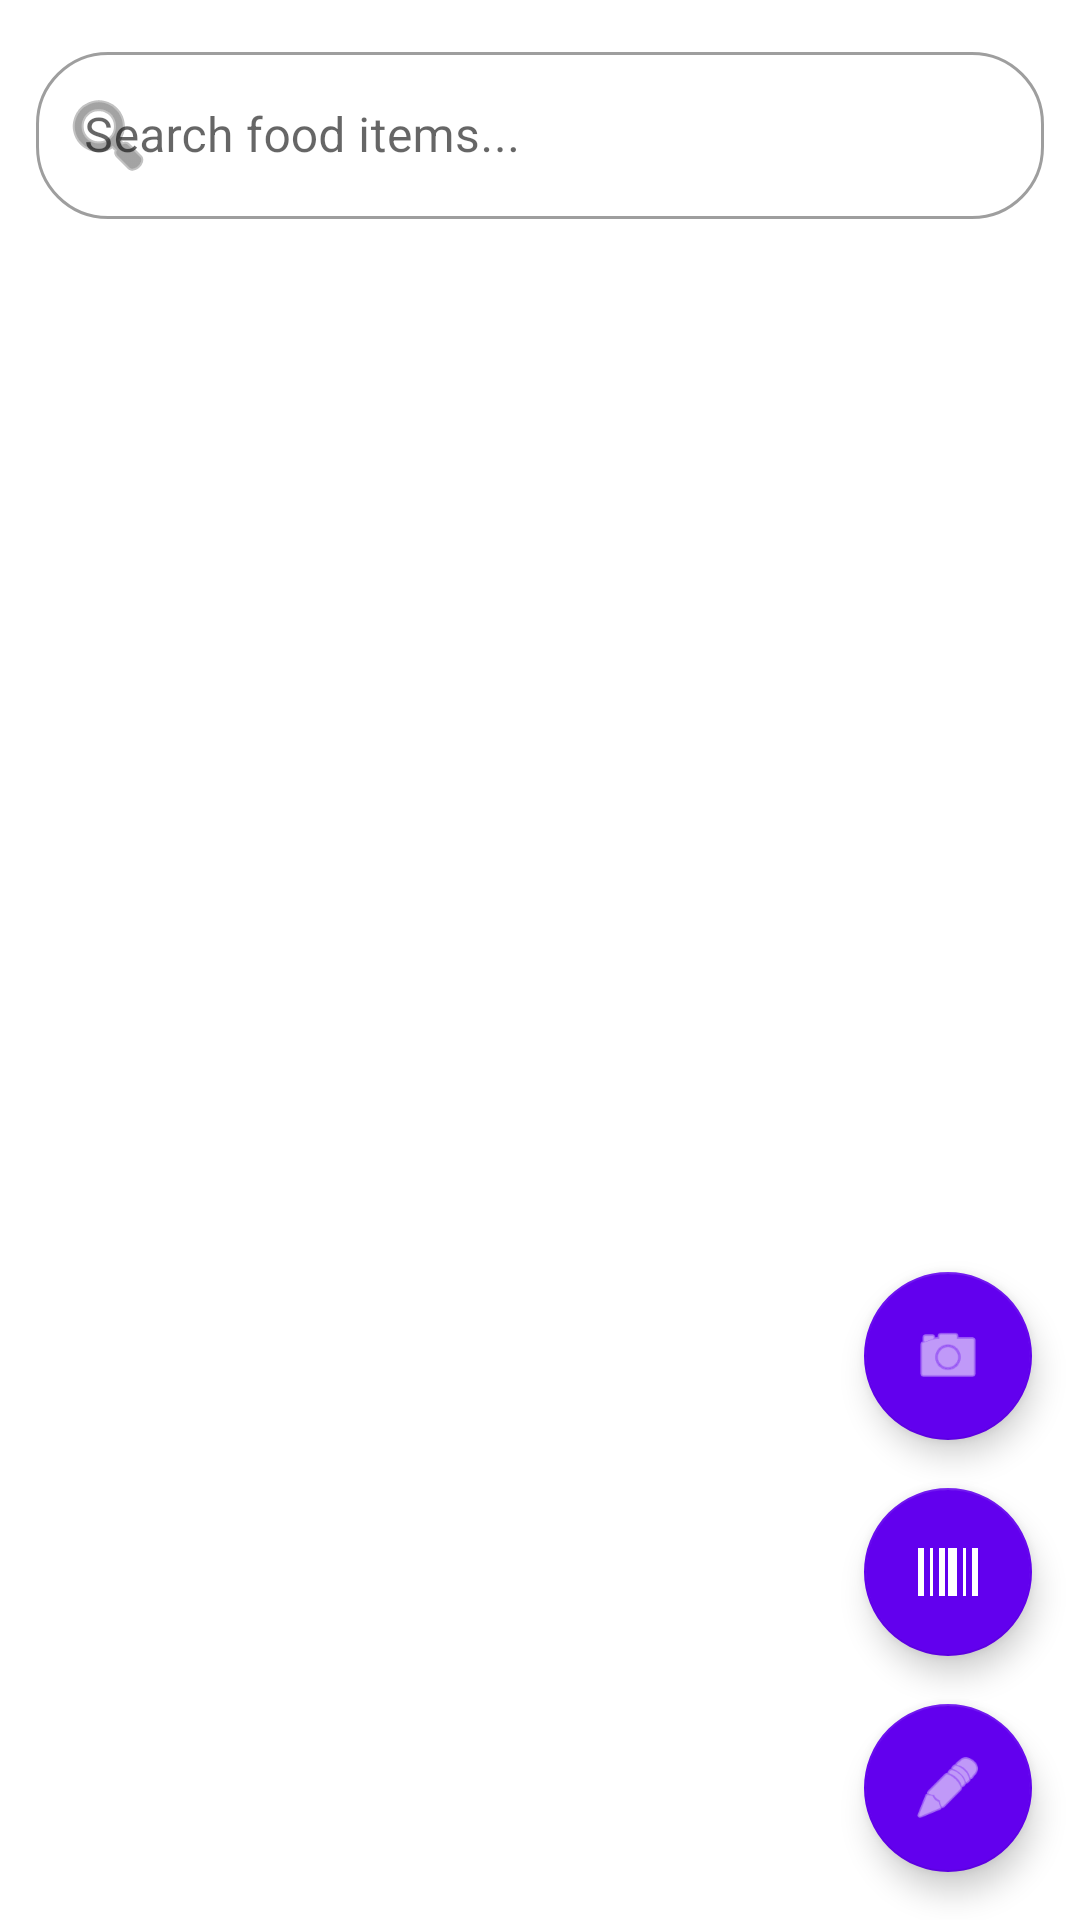

Point at icon controls on the screen. Image size 1080px x 1920px, points as point (x, y).
Barcode: point (948, 1572)
camera: point (948, 1356)
Write: point (948, 1788)
